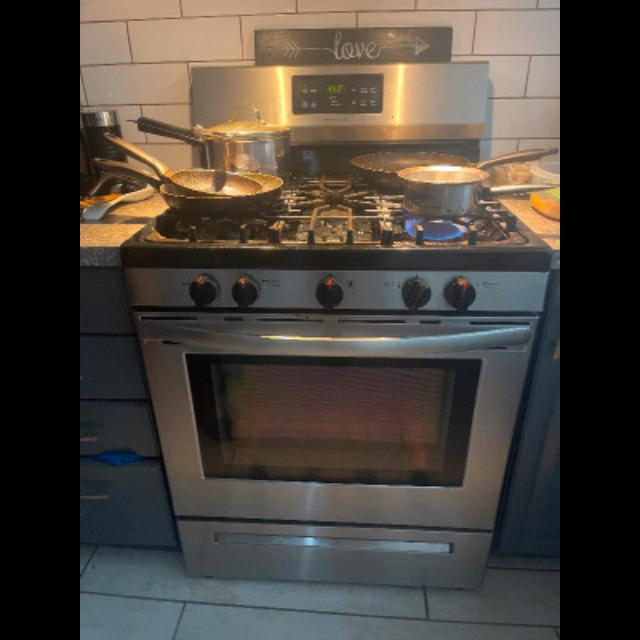Oven: (127, 158, 538, 524)
